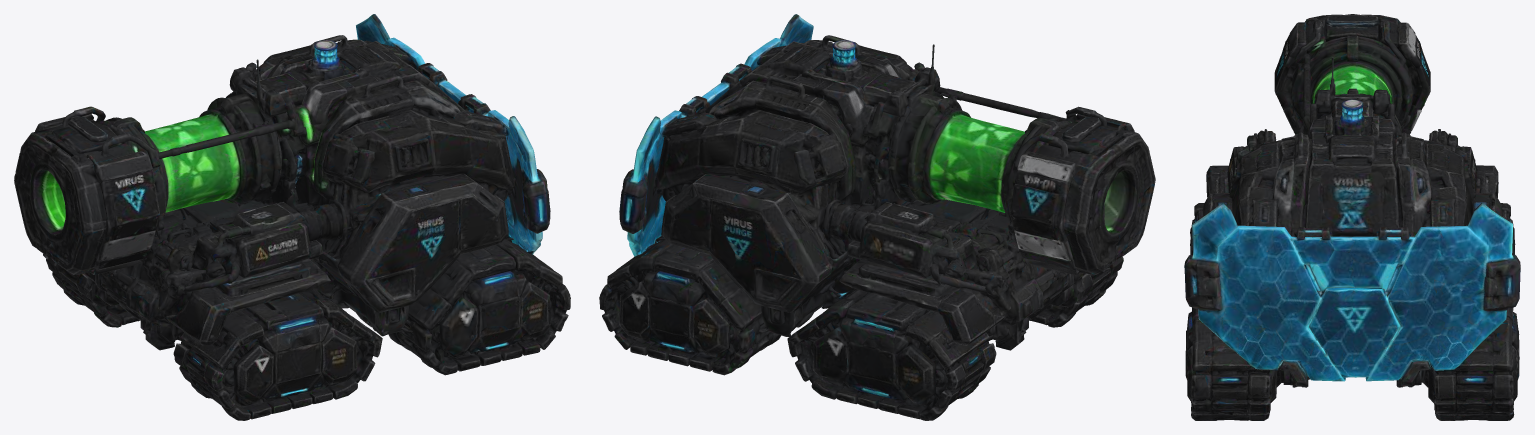
File: tank.glb
The picture shows the model from 3 angles, left to right: view 1: azimuth 30°, elevation 25°; view 2: azimuth 150°, elevation 25°; view 3: azimuth 270°, elevation 25°; orthographic projection. The views are drawn at different scales.
Bounding box in the file's own units: 1.9 × 1.21 × 1.37.
1 material, 1 textured.
